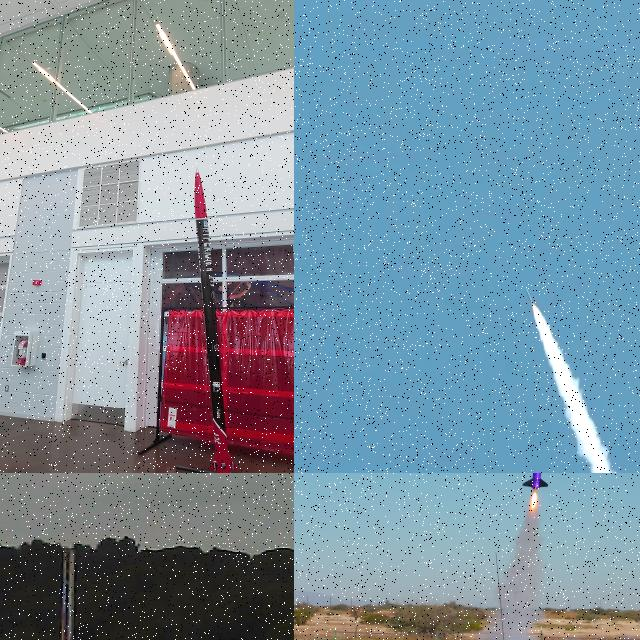Rocket: (194, 167, 238, 473), (521, 473, 549, 490), (525, 281, 536, 307)
